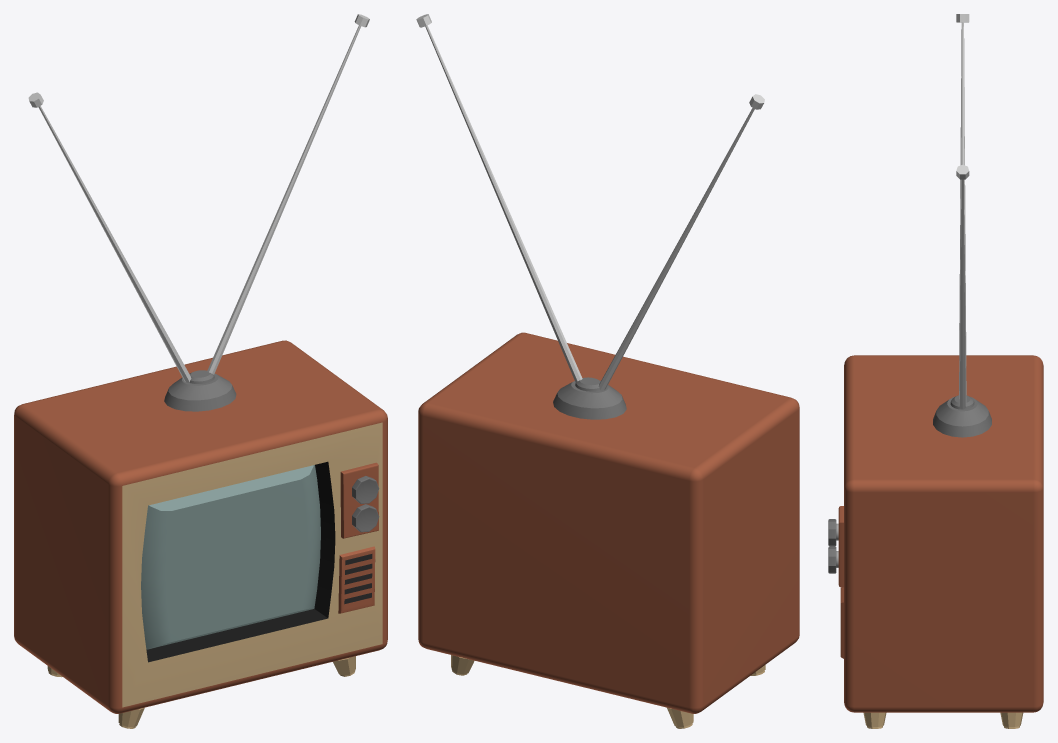
3 views of the same model, side by side, from view 1: azimuth 30°, elevation 25°; view 2: azimuth 150°, elevation 25°; view 3: azimuth 270°, elevation 25° (orthographic). The views are drawn at different scales.
Visible parts, largest first — view 1: pCube1, pCylinder10, pSphere1, pCylinder11, pCylinder4, pCylinder1; view 2: pCube1, pCylinder10, pSphere1, pCylinder11; view 3: pCube1, pSphere1, pCylinder10, pCylinder11.
Part boxes in pixels (box(x1,y1,x2,y2)): pCube1: box(14, 340, 387, 713); pCylinder10: box(207, 14, 369, 374); pSphere1: box(164, 370, 236, 411); pCylinder11: box(28, 92, 191, 382); pCylinder4: box(352, 504, 379, 532); pCylinder1: box(352, 476, 379, 503); pCube1: box(418, 332, 799, 713); pCylinder10: box(416, 14, 582, 382); pSphere1: box(553, 377, 626, 419); pCylinder11: box(598, 94, 764, 390); pCube1: box(838, 355, 1043, 712); pSphere1: box(933, 395, 991, 437); pCylinder10: box(956, 164, 969, 409); pCylinder11: box(956, 14, 969, 394).
Size of the model in its own units: 9.46 by 16.29 by 5.37.
